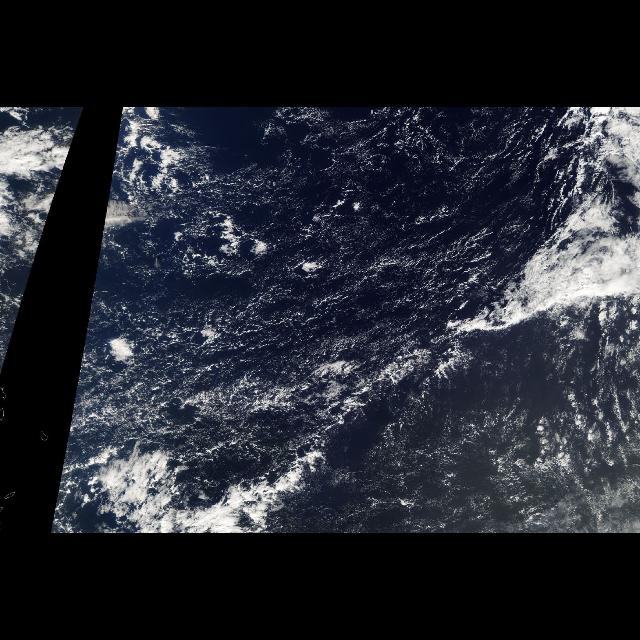Fish: (454, 185, 638, 335), (134, 438, 346, 530)
Gravel: (102, 116, 494, 290), (102, 299, 408, 447), (509, 332, 635, 478)
Sugar: (270, 113, 482, 307)
